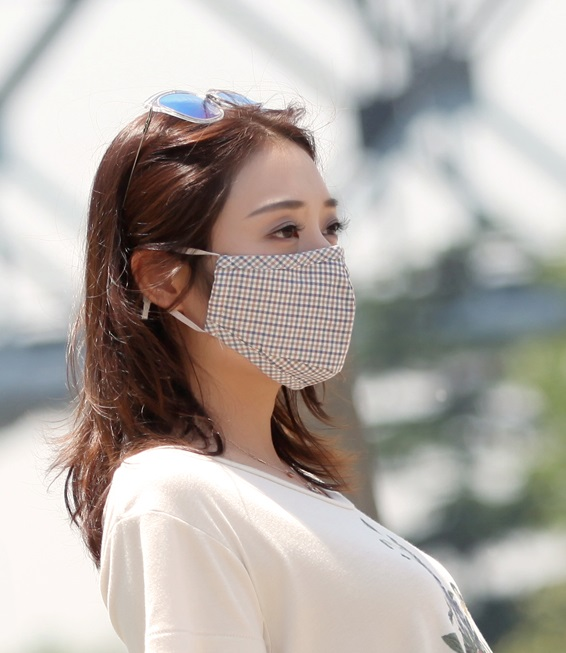face_mask: (203, 136, 348, 378)
